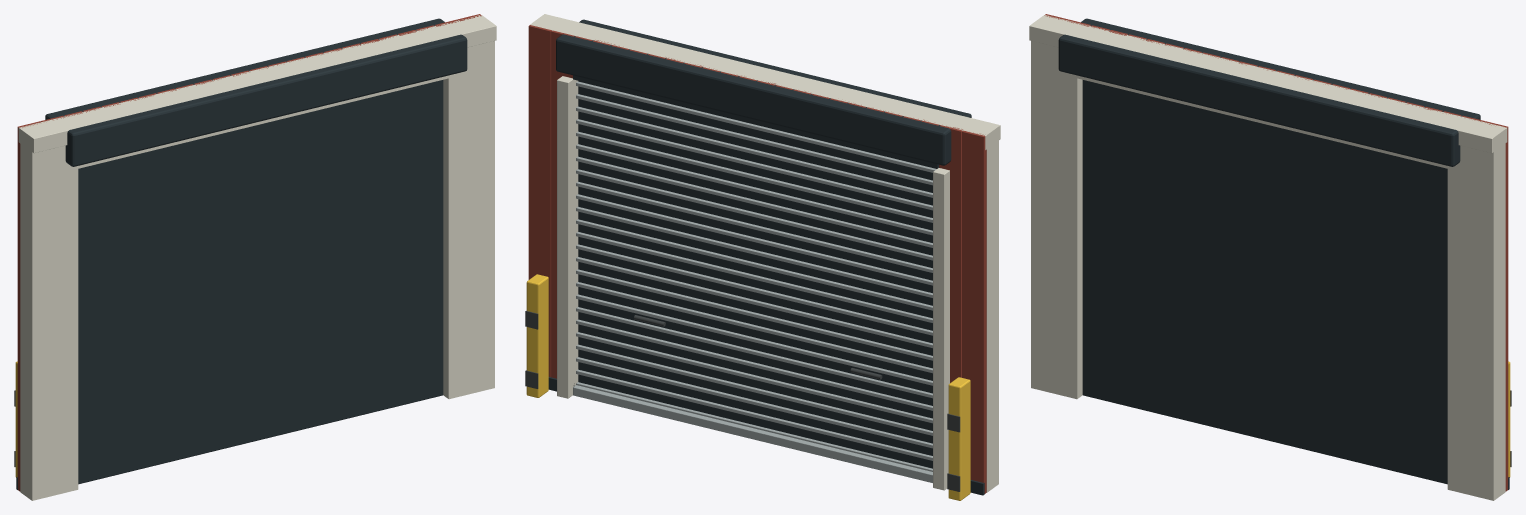
Rendered from workshop_open_bay_4m.glb.
3 renders of one model, left to right at view 1: azimuth 30°, elevation 25°; view 2: azimuth 150°, elevation 25°; view 3: azimuth 330°, elevation 25°, orthographic.
Visible parts, largest first — view 1: Structure; view 2: Structure; view 3: Structure.
Boxes of the visible parts, x1,y1,x2,y2 form: Structure: [14, 14, 496, 500]; Structure: [525, 14, 1000, 500]; Structure: [1029, 14, 1511, 500].
Size of the model in its own units: 4 by 3 by 0.5325.
